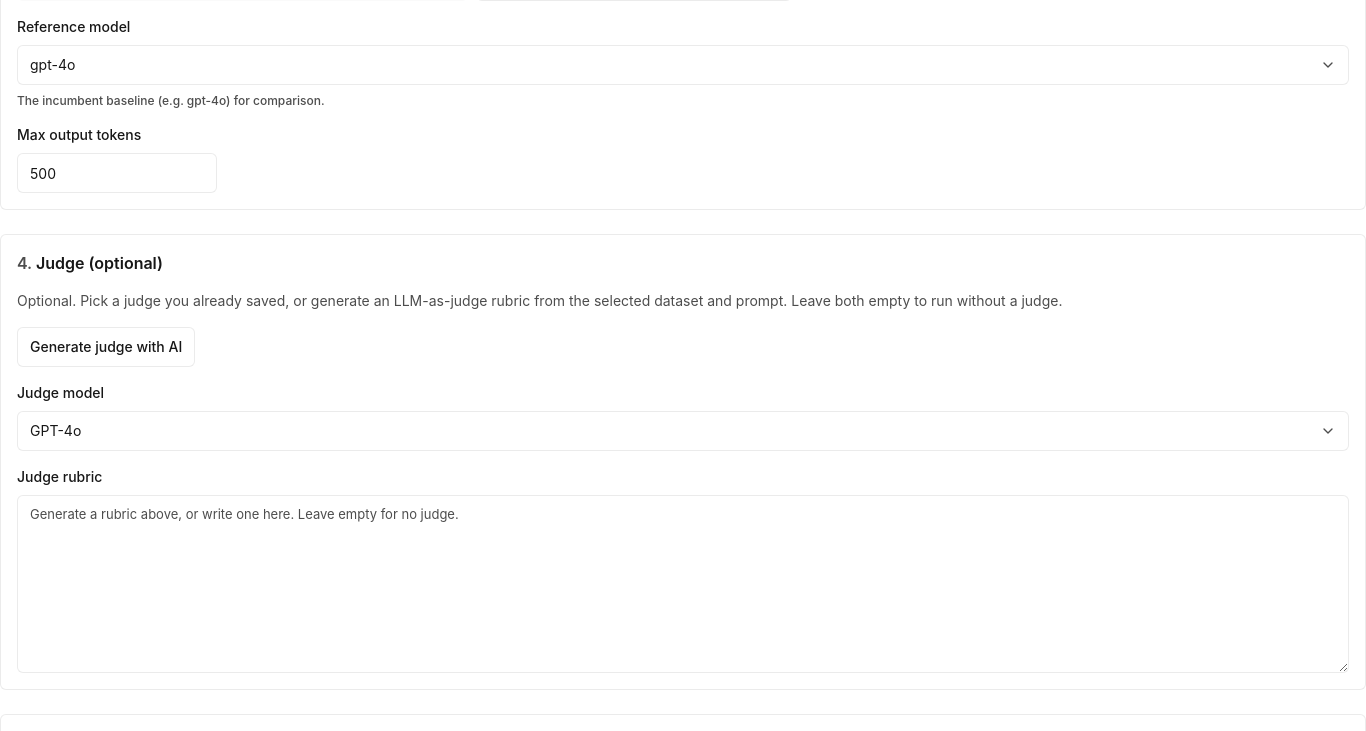
Test: NewRunForm model selection › fills the rubric textarea from the AI generation action
(page scrolled)
Click the button "Generate judge with AI" at (106, 347), box [17,327,195,367]
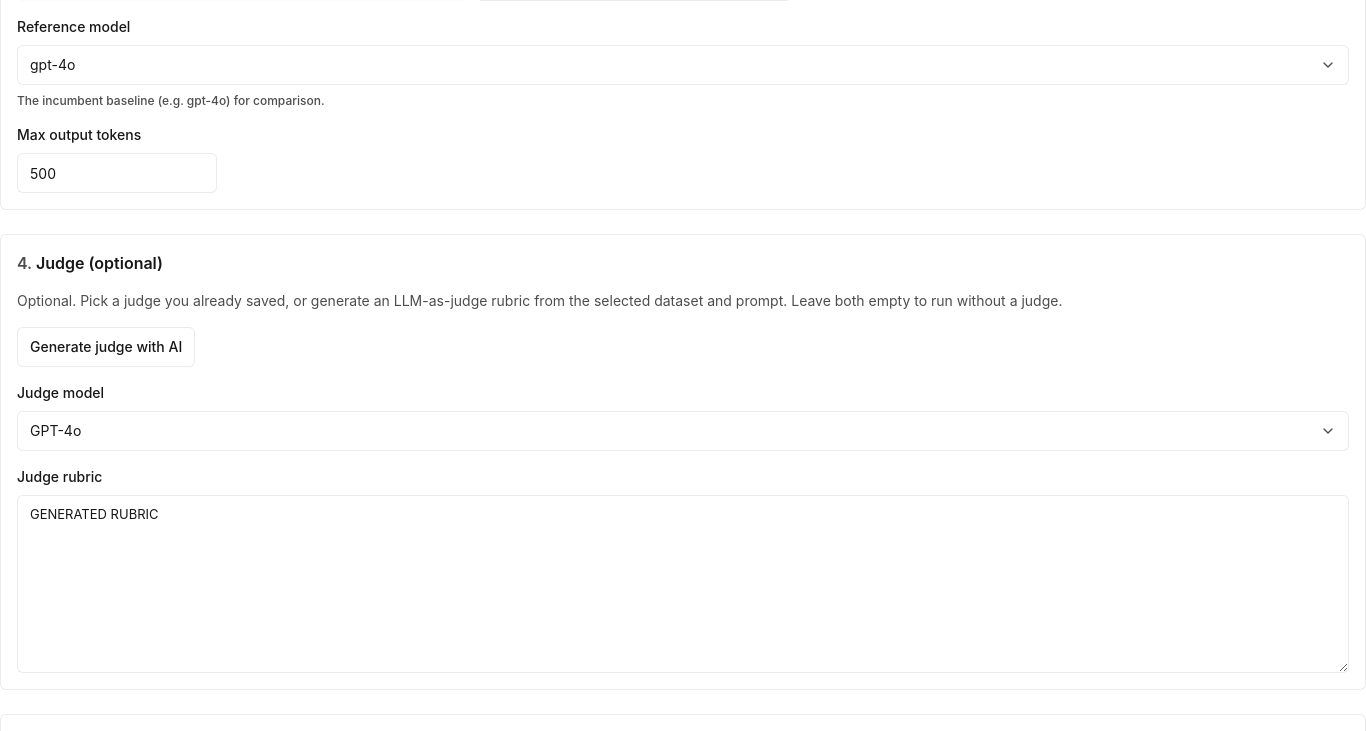
Check: the text box labelled "Judge rubric" holds "GENERATED RUBRIC", box [17,495,1349,673]
